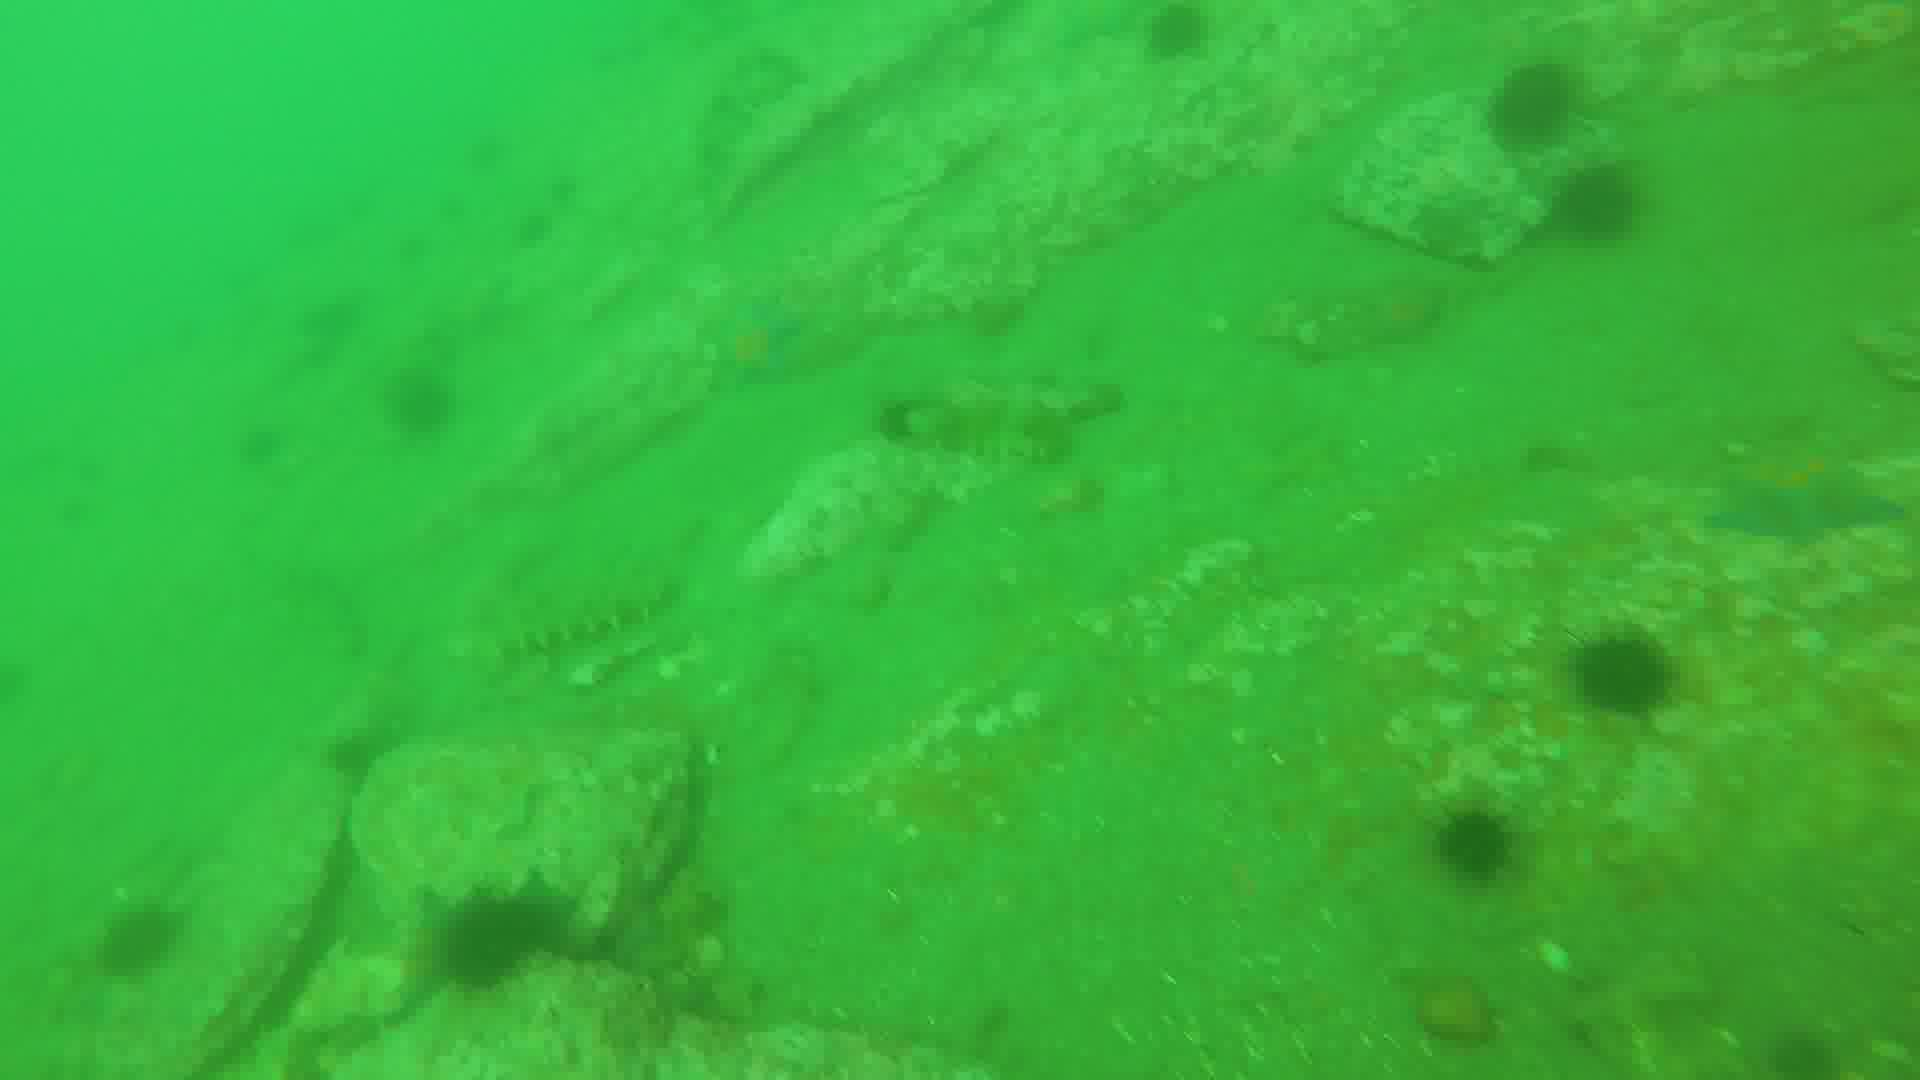echinus: (435, 885, 564, 990), (1584, 628, 1683, 727), (1491, 67, 1582, 157), (103, 899, 185, 984), (1437, 804, 1523, 880), (1561, 162, 1636, 243), (388, 378, 462, 433), (1153, 1, 1211, 63)
holothurian: (476, 562, 695, 659), (880, 398, 1079, 463)
starfish: (1705, 458, 1907, 550), (716, 311, 804, 388)
